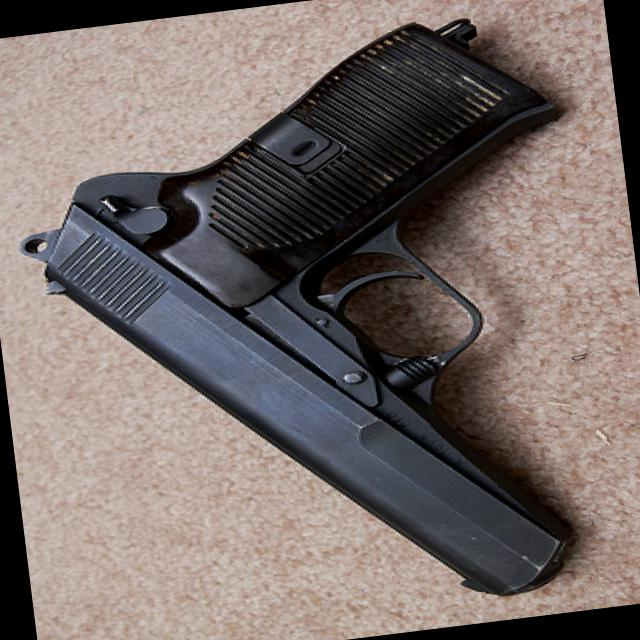handgun: (1, 6, 587, 639)
